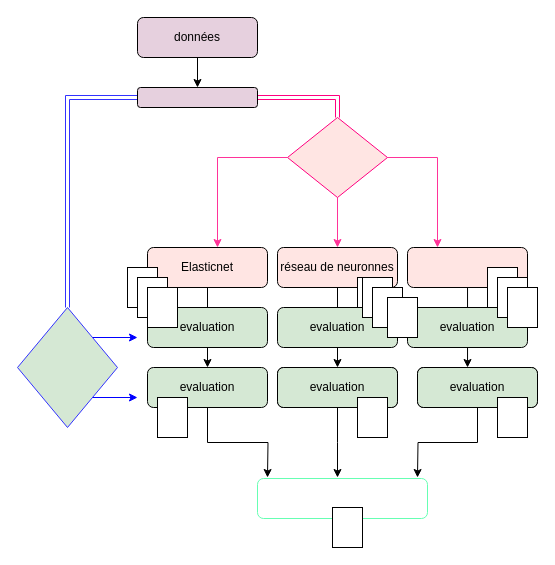
The diagram is 555 pixels wide and 565 high, and some of its shapes have lost their labels. Here are the shapes that lost their labels. From the top down, the box of each, then its label:
(136, 86, 258, 108): Validation croisée
(286, 116, 388, 198): données d'apprentissage (9 folds)
(406, 246, 528, 288): SVM
(16, 306, 118, 428): données de test (1 fold)
(256, 478, 428, 518): comparaison
